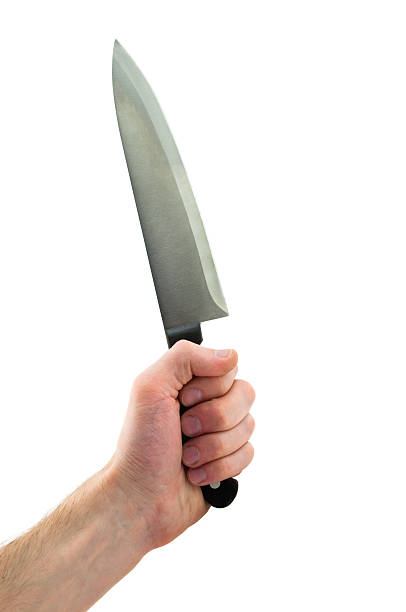knife: (109, 35, 242, 509)
